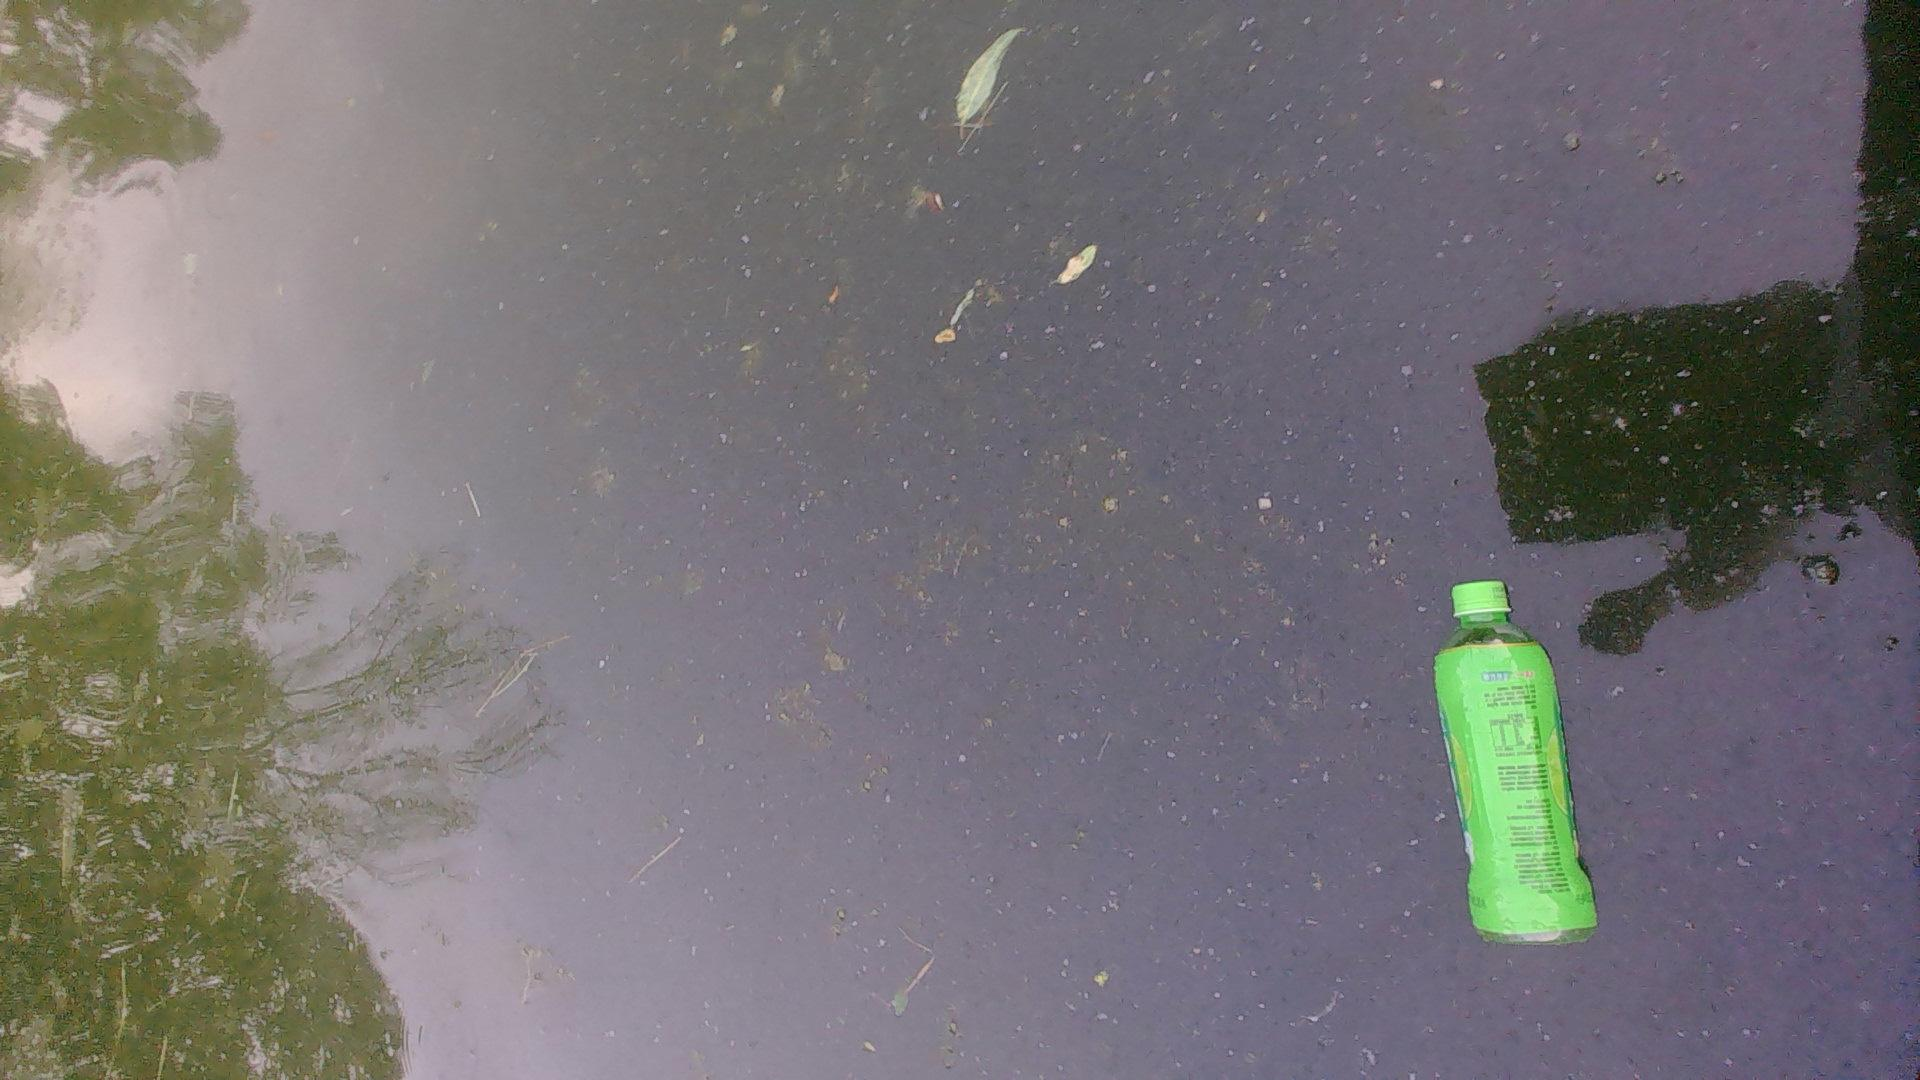Plastic: (1432, 571, 1606, 949)
